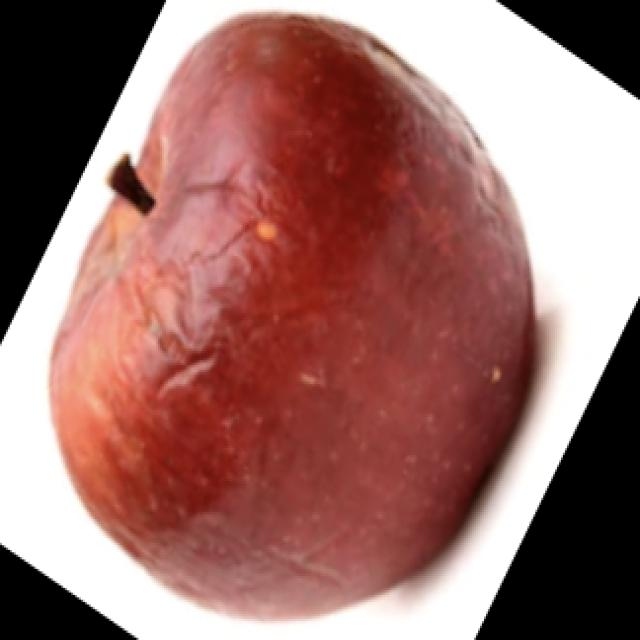overripe: (41, 9, 544, 626)
